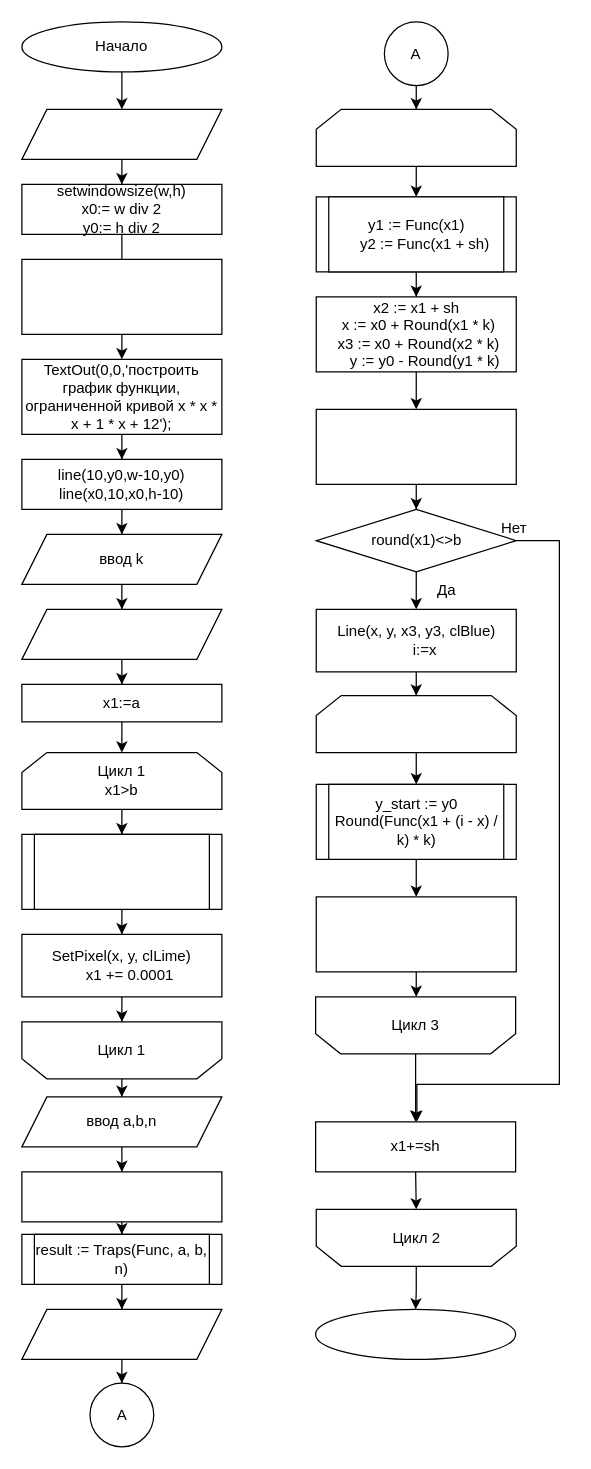
This 591x1469 diagram has some shape labels left out. The shapes that lost their labels are listed below. From the top down, each one's centre as x and y in pixels, then its label:
At point (121, 133): "ввод w,h".
At point (415, 137): "Цикл 2 x1>b".
At point (121, 296): "TextOut(h - 40, y0, 'Ось Х'); TextOut(x0 - 40, 20, 'Ось Y');".
At point (415, 446): "y3 := y0 - Round(y2 * k) SetPenWidth(3) Line(x, y, x, y0, clBlue)".
At point (121, 633): "ввод a,b".
At point (415, 723): "Цикл 3 i>=x3".
At point (121, 871): "y1 := Func(x1) x := x0 + Round(x1 * k) y := y0 - Round(y1 * k)".
At point (415, 934): "setpenwidth(1) Line(i, y_start, i, y0, clred) i+=4".
At point (121, 1196): "sh := (b - a) / n x1 := a".
At point (121, 1333): "вывод result".
At point (415, 1333): "Конец".
